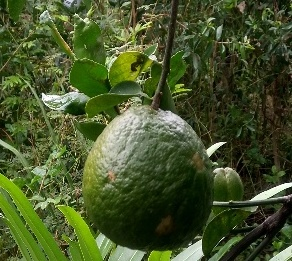Cam: (80, 101, 219, 253)
